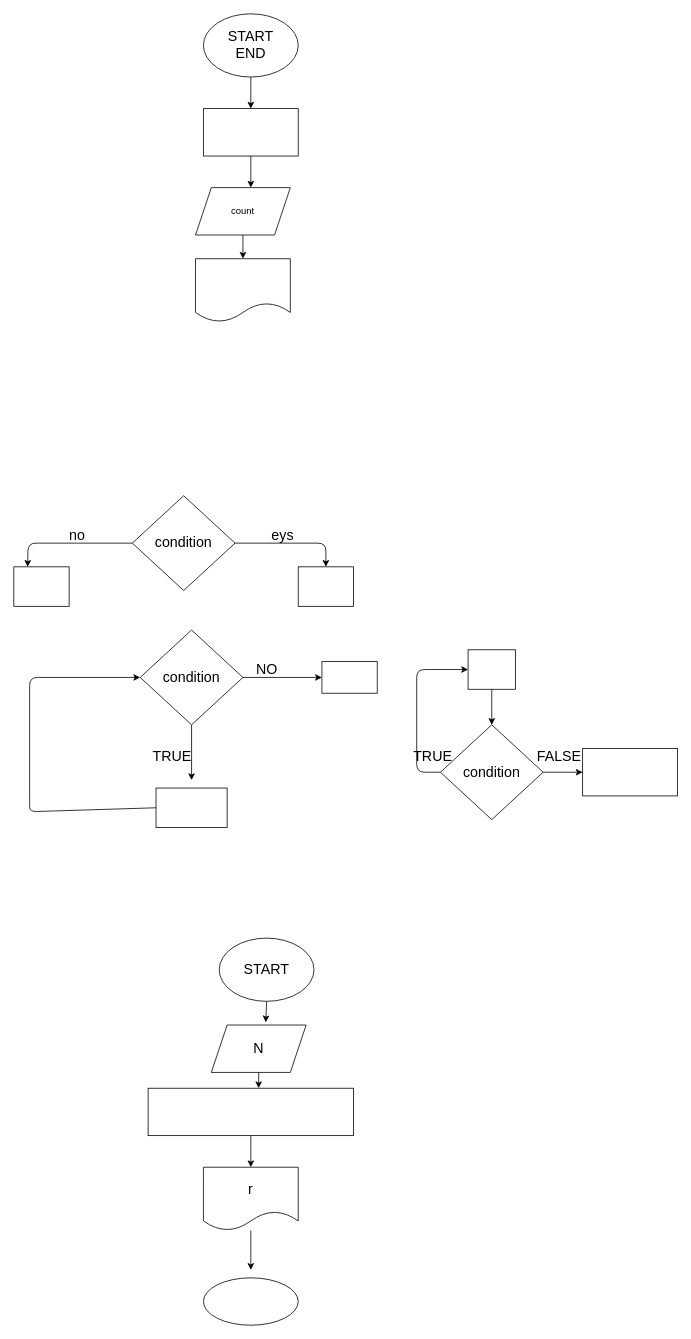
The diagram is 691 pixels wide and 1339 high, and some of its shapes have lost their labels. The centre of each missing label's shape, as x and y in pixels:
"count=0 res+1*Sqrt (2)" goes at point 250,132.
"END" goes at point 250,1301.
"print (res)" goes at point 242,290.
"R=random (1,N)" goes at point 250,1111.
